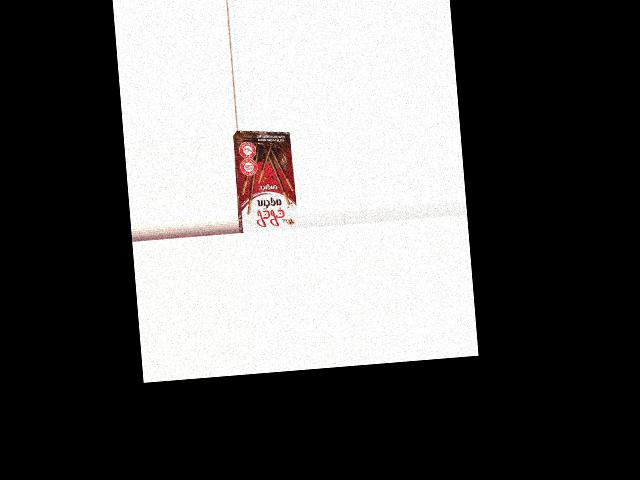chocolate: (232, 133, 299, 233)
